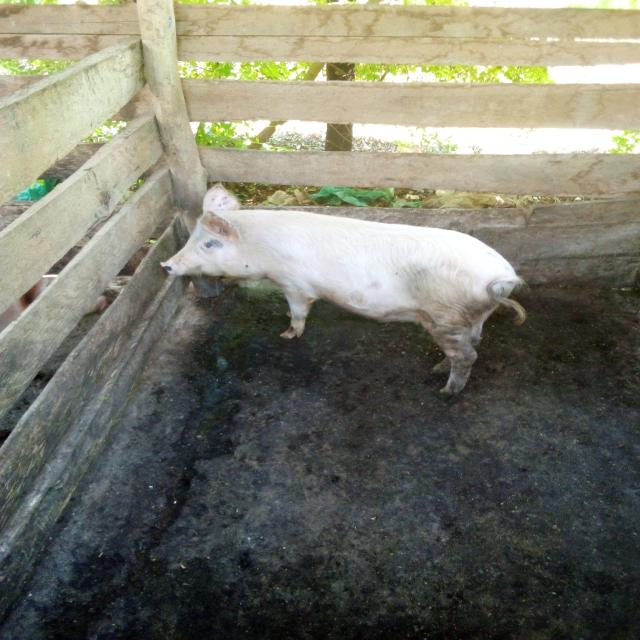pig: (131, 132, 588, 447)
